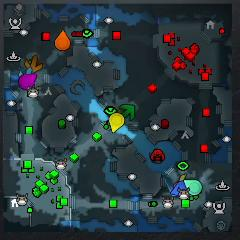p1: (171, 181, 185, 197)
p2: (184, 179, 202, 195)
p3: (18, 73, 37, 89)
p4: (109, 113, 124, 134)
p5: (55, 30, 70, 50)
x1: (174, 182, 177, 188)
x2: (178, 173, 186, 180)
x3: (19, 67, 32, 76)
x4: (120, 104, 134, 120)
x5: (25, 55, 42, 72)
